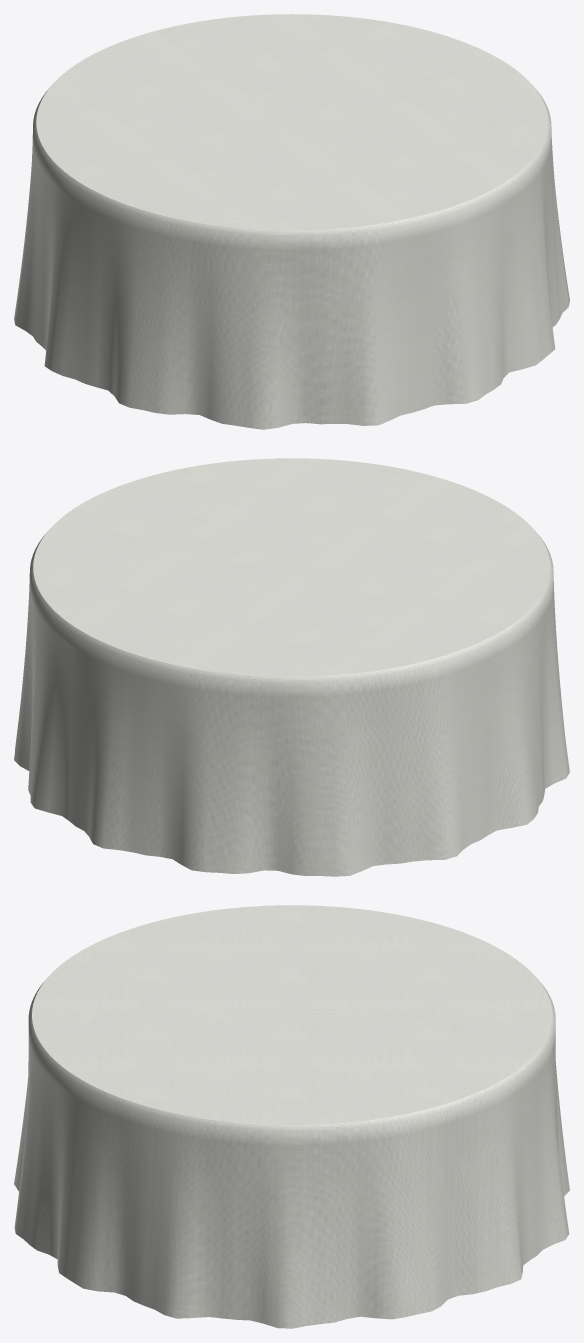
The model's file is table_round_6ft.gltf.
3 renders of one model, top to bottom at view 1: azimuth 30°, elevation 25°; view 2: azimuth 150°, elevation 25°; view 3: azimuth 270°, elevation 25°, orthographic.
Parts seen in each view (by area): view 1: table_round_6ft; view 2: table_round_6ft; view 3: table_round_6ft.
Part boxes in pixels (x1,y1,x2,y2): table_round_6ft: [14, 14, 569, 429]; table_round_6ft: [14, 458, 569, 876]; table_round_6ft: [14, 905, 569, 1328].
Bounding box in the file's own units: 2.01 × 0.762 × 1.98.
1 material, 1 textured.
